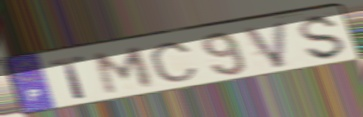9: (198, 30, 250, 77)
C: (148, 41, 201, 84)
M: (92, 45, 156, 97)
S: (299, 13, 349, 62)
T: (48, 54, 90, 102)
V: (240, 19, 290, 71)
